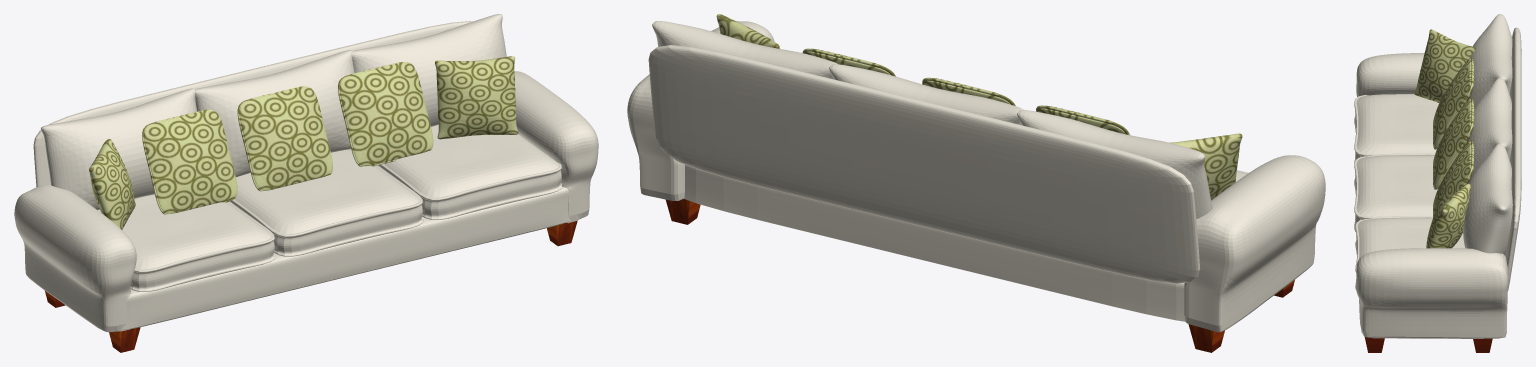
The model's file is sweethome3d-contributions-large-couch-260.glb.
3 views of the same model, side by side, from view 1: azimuth 30°, elevation 25°; view 2: azimuth 150°, elevation 25°; view 3: azimuth 270°, elevation 25° (orthographic). The views are drawn at different scales.
Parts seen in each view (by area): view 1: PolyMesh_2, PolyMesh_3, PolyMesh_4_1, PolyMesh_4, PolyMesh_4_2, PolyMesh_2_2, PolyMesh_2_1, PolyMesh_2_3, PolyMesh_1_5, PolyMesh_1, PolyMesh_3_1, PolyMesh_1_2 (+5 smaller); view 2: PolyMesh_1_1, PolyMesh_2, PolyMesh_3, PolyMesh_1_5, PolyMesh_3_1, PolyMesh_1_4, PolyMesh_1, PolyMesh_1_3, PolyMesh_1_2, PolyMesh_2_1, PolyMesh_2_3, PolyMesh_2_2 (+2 smaller); view 3: PolyMesh_3_1, PolyMesh_4_1, PolyMesh_4_2, PolyMesh_1_4, PolyMesh_1, PolyMesh_4, PolyMesh_1_5, PolyMesh_3, PolyMesh_1_3, PolyMesh_1_1, PolyMesh_1_2, PolyMesh_2_3 (+4 smaller).
Boxes of the visible parts, x1,y1,x2,y2 form: PolyMesh_2: [122, 186, 570, 329]; PolyMesh_3: [14, 184, 136, 332]; PolyMesh_4_1: [230, 149, 423, 256]; PolyMesh_4: [378, 125, 562, 219]; PolyMesh_4_2: [98, 194, 275, 291]; PolyMesh_2_2: [338, 62, 433, 166]; PolyMesh_2_1: [142, 109, 237, 214]; PolyMesh_2_3: [237, 86, 332, 191]; PolyMesh_1_5: [41, 88, 197, 209]; PolyMesh_1: [194, 50, 354, 176]; PolyMesh_3_1: [514, 71, 598, 223]; PolyMesh_1_2: [435, 56, 518, 139]; PolyMesh_1_1: [648, 45, 1200, 283]; PolyMesh_2: [684, 164, 1184, 321]; PolyMesh_3: [1184, 155, 1325, 332]; PolyMesh_1_5: [1017, 110, 1212, 219]; PolyMesh_3_1: [627, 21, 774, 200]; PolyMesh_1_4: [652, 21, 837, 78]; PolyMesh_1: [829, 64, 1023, 124]; PolyMesh_1_3: [1170, 133, 1242, 199]; PolyMesh_1_2: [716, 14, 779, 48]; PolyMesh_2_1: [1036, 105, 1129, 134]; PolyMesh_2_3: [922, 77, 1015, 105]; PolyMesh_2_2: [802, 48, 895, 76]; PolyMesh_3_1: [1356, 248, 1508, 338]; PolyMesh_4_1: [1354, 155, 1437, 231]; PolyMesh_4_2: [1354, 94, 1439, 162]; PolyMesh_1_4: [1463, 144, 1512, 254]; PolyMesh_1: [1468, 78, 1512, 177]; PolyMesh_4: [1355, 218, 1464, 289]; PolyMesh_1_5: [1470, 14, 1512, 107]; PolyMesh_3: [1356, 53, 1424, 96]; PolyMesh_1_3: [1414, 29, 1475, 102]; PolyMesh_1_1: [1504, 27, 1521, 291]; PolyMesh_1_2: [1426, 183, 1470, 248]; PolyMesh_2_3: [1433, 98, 1474, 189].
Size of the model in its own units: 7.76 by 2.46 by 2.51.
3 materials, 2 textured.
